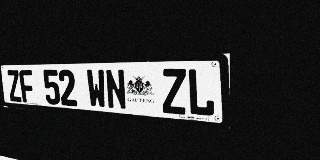2: (58, 69, 77, 106)
5: (43, 70, 61, 105)
F: (19, 70, 36, 103)
L: (187, 68, 215, 117)
N: (105, 69, 127, 110)
W: (86, 69, 107, 109)
Z: (161, 69, 187, 115), (6, 70, 23, 102)
